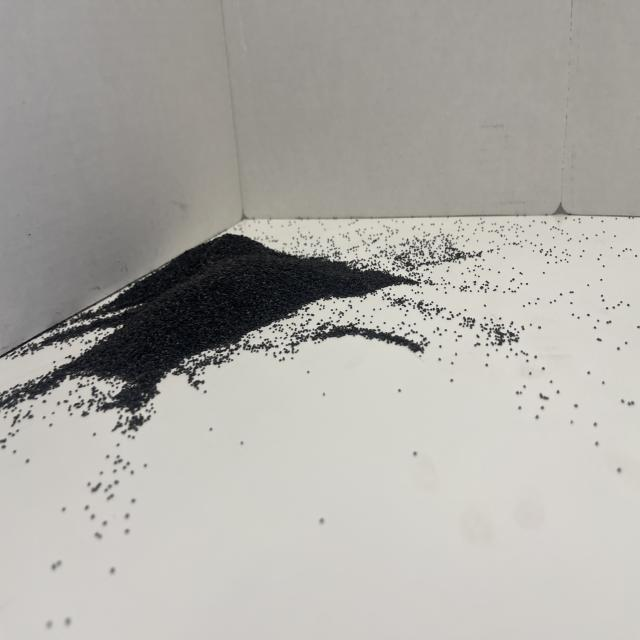Poppy Seeds: (31, 233, 432, 433)
